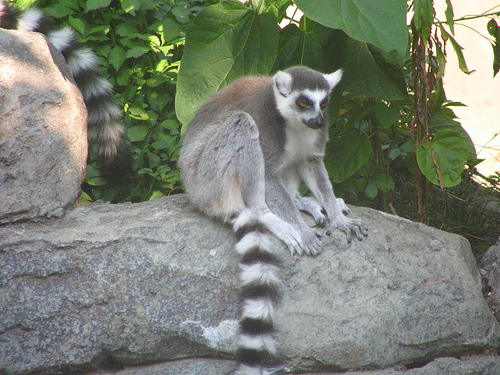cat: (177, 61, 368, 370), (0, 0, 134, 187)
